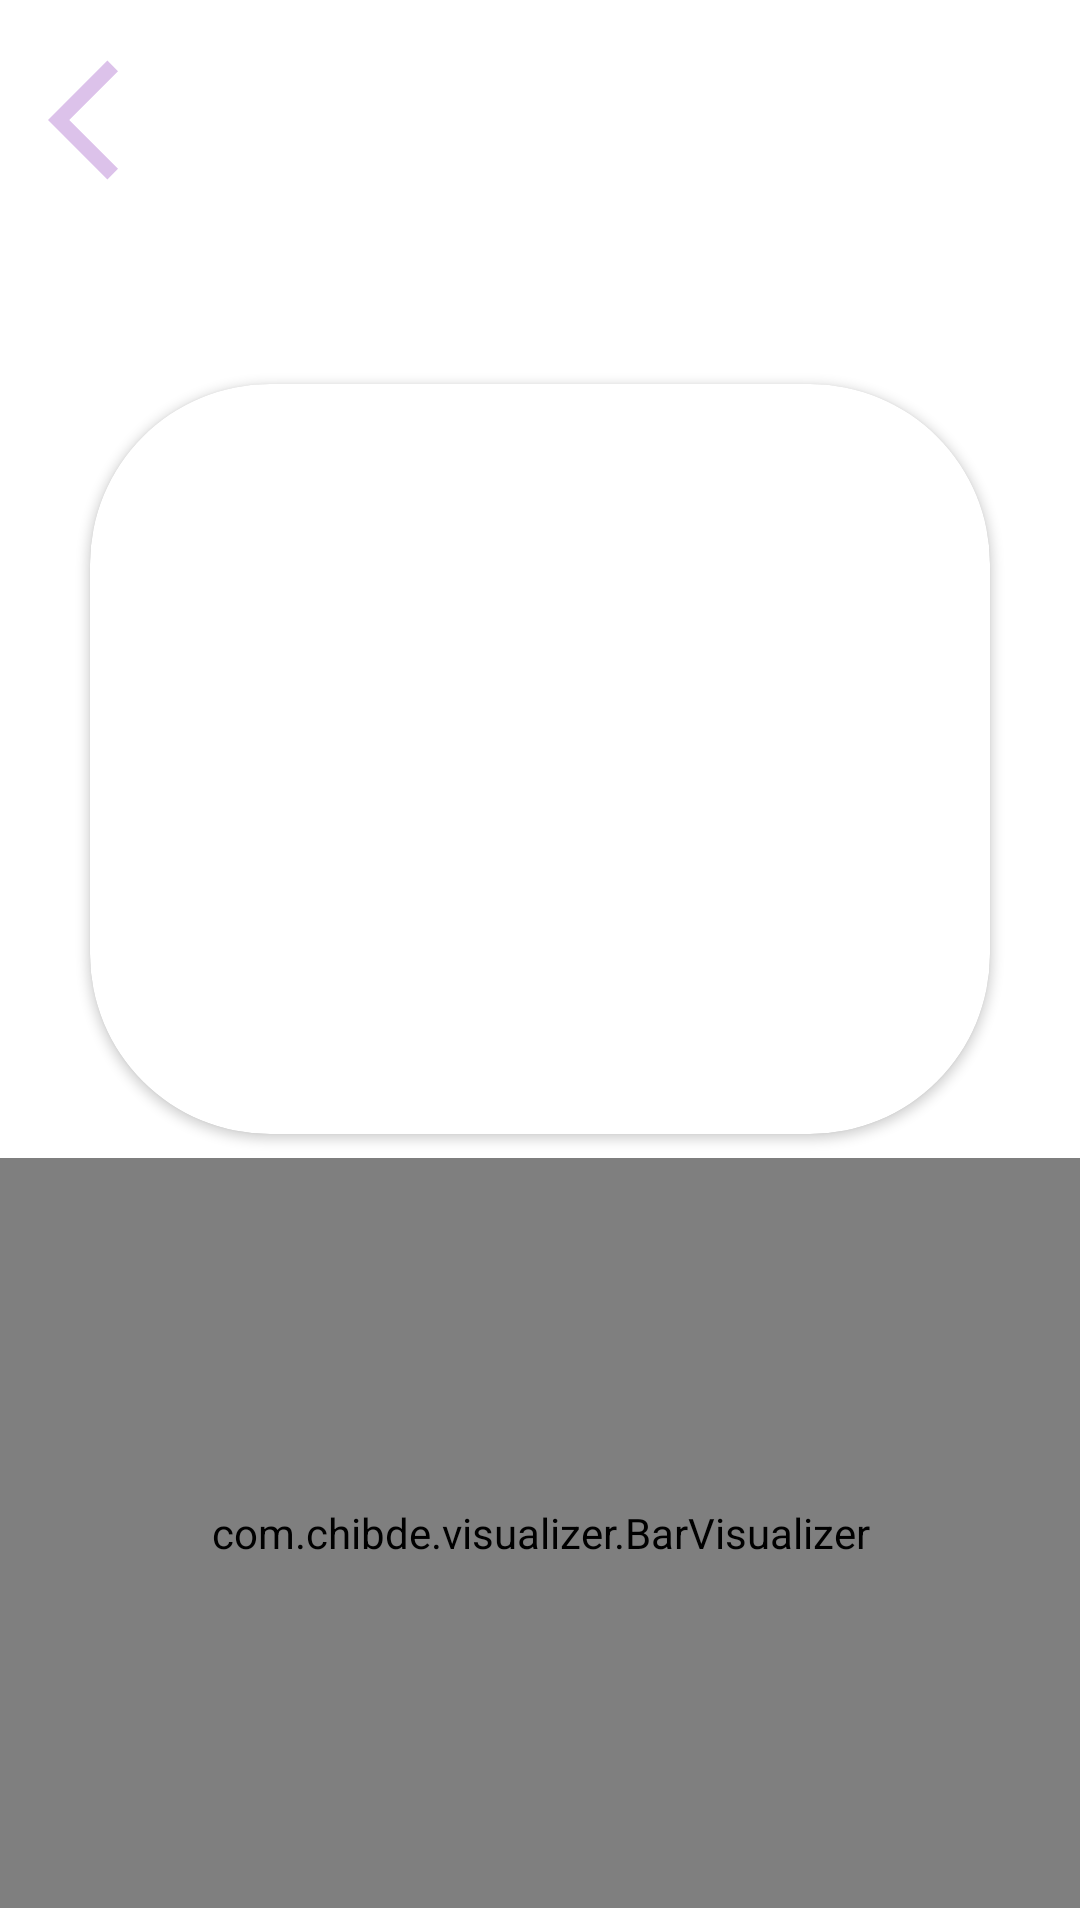

Icon click points for this 1080w x 1920h phone screenshot, format (x=x, y=y):
arrow back: (x=83, y=120)
